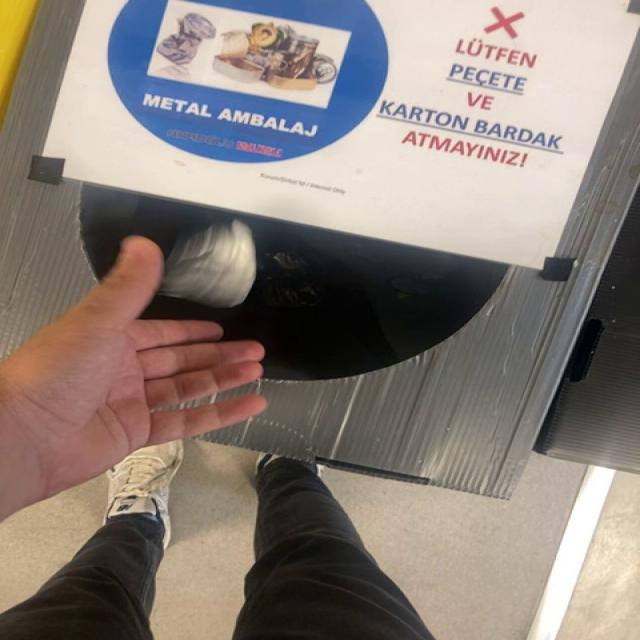bin: (3, 0, 640, 498)
metal: (159, 219, 256, 308)
